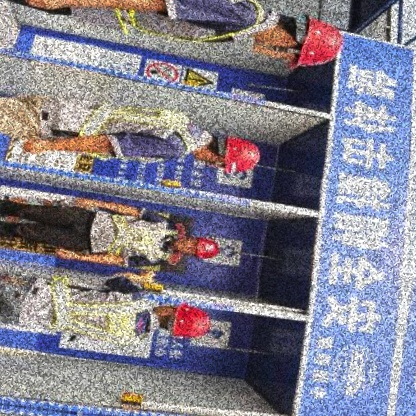red: (284, 9, 348, 80), (167, 297, 218, 346), (217, 130, 266, 178), (190, 231, 224, 267)
vest: (29, 87, 213, 173), (58, 0, 280, 56), (33, 267, 160, 356), (80, 203, 181, 266)
